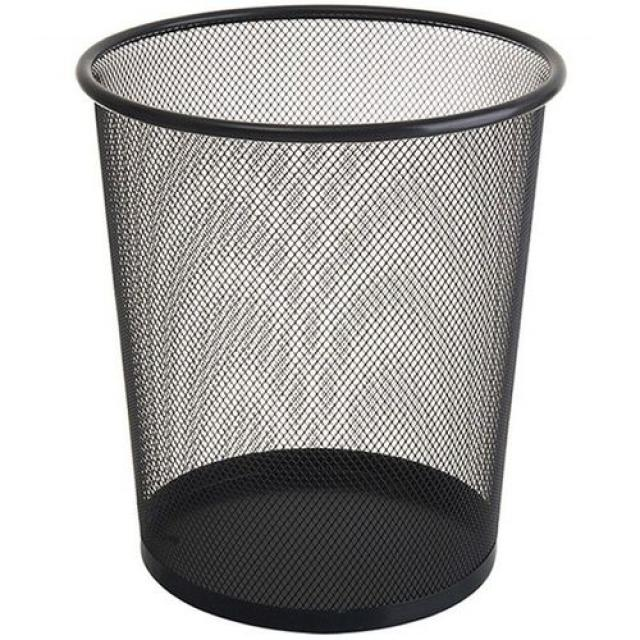Dustbin: (69, 0, 574, 640)
